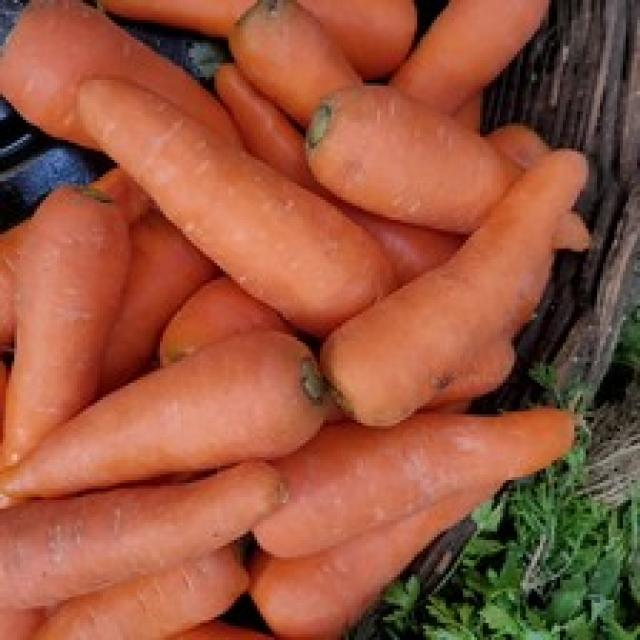Fresh_Carrot: (70, 81, 302, 311), (14, 332, 282, 504)
